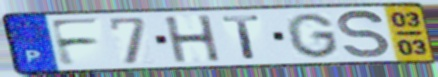7: (106, 15, 150, 66)
F: (46, 17, 103, 69)
G: (283, 12, 342, 60)
H: (161, 13, 224, 64)
S: (336, 8, 394, 60)
T: (219, 14, 264, 61)
